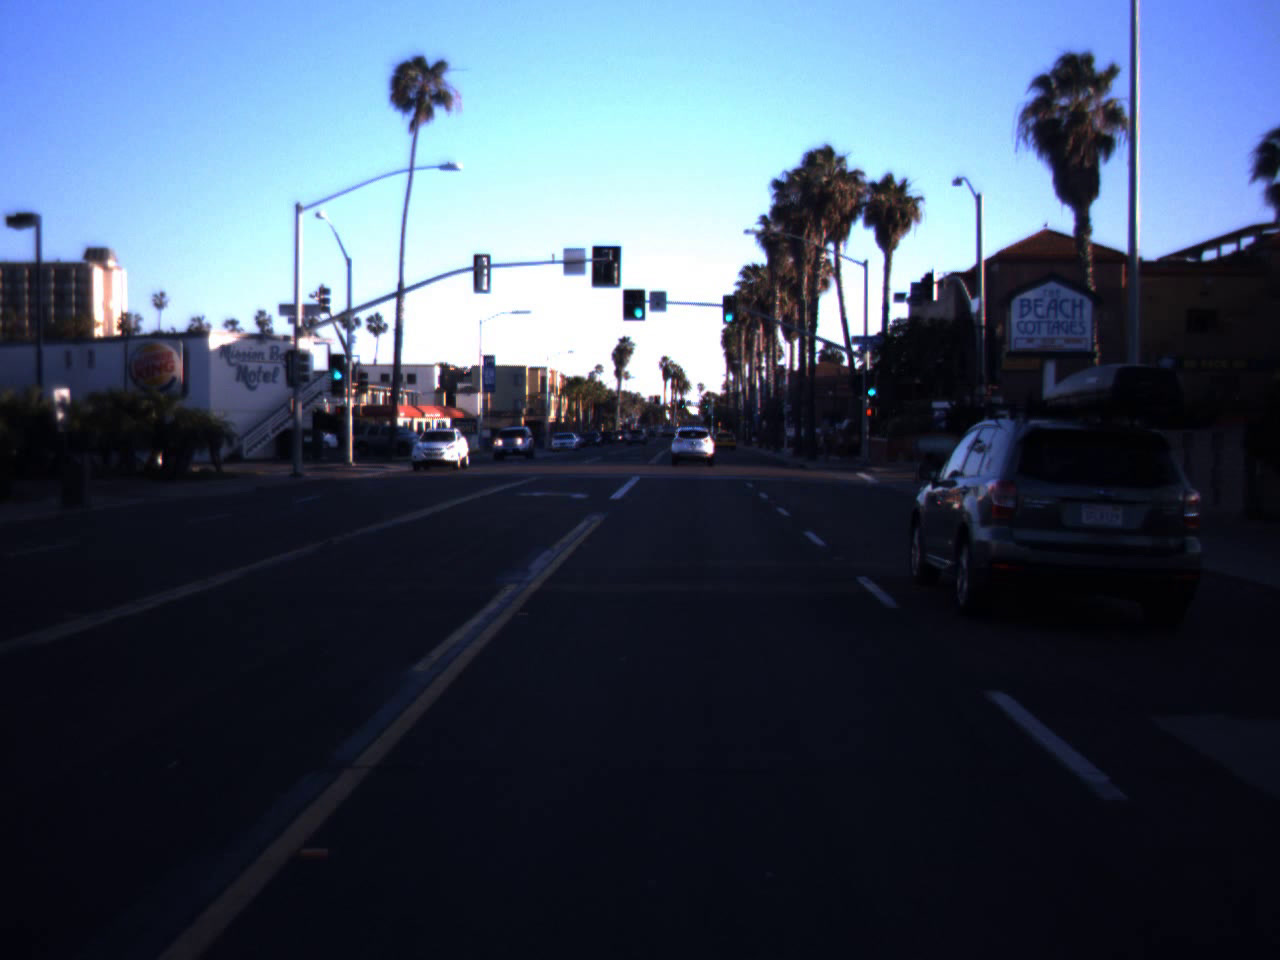go: (328, 347, 346, 382), (630, 285, 648, 320), (720, 294, 738, 324), (862, 372, 880, 397)
